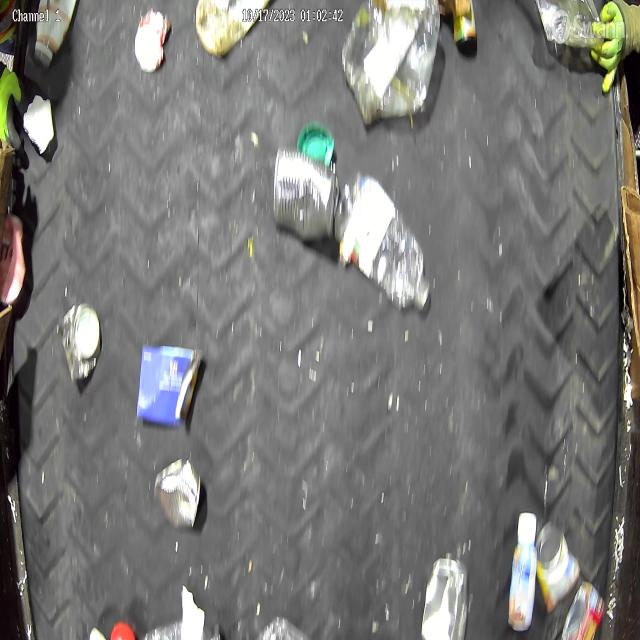can: (272, 144, 339, 243), (421, 557, 469, 640), (536, 524, 580, 613), (62, 300, 102, 384), (155, 459, 201, 531)
plastic_bottle: (337, 174, 431, 312)
